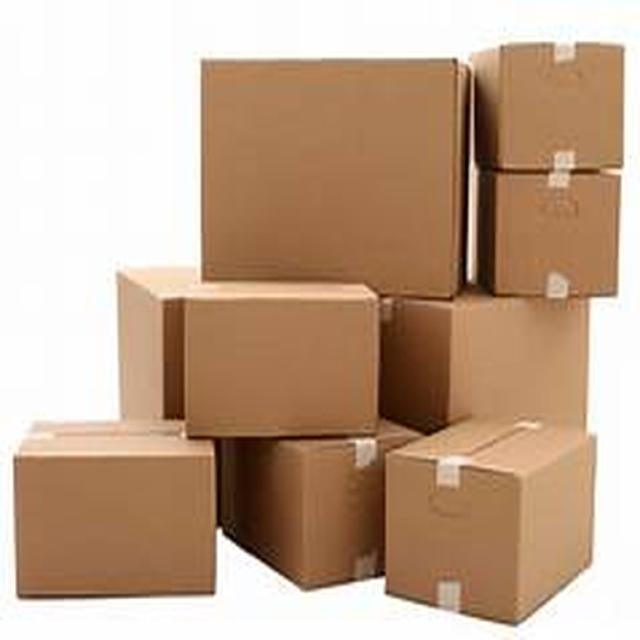box: (169, 45, 462, 311), (462, 0, 639, 337), (82, 253, 399, 430), (392, 384, 605, 640), (5, 394, 232, 590)
